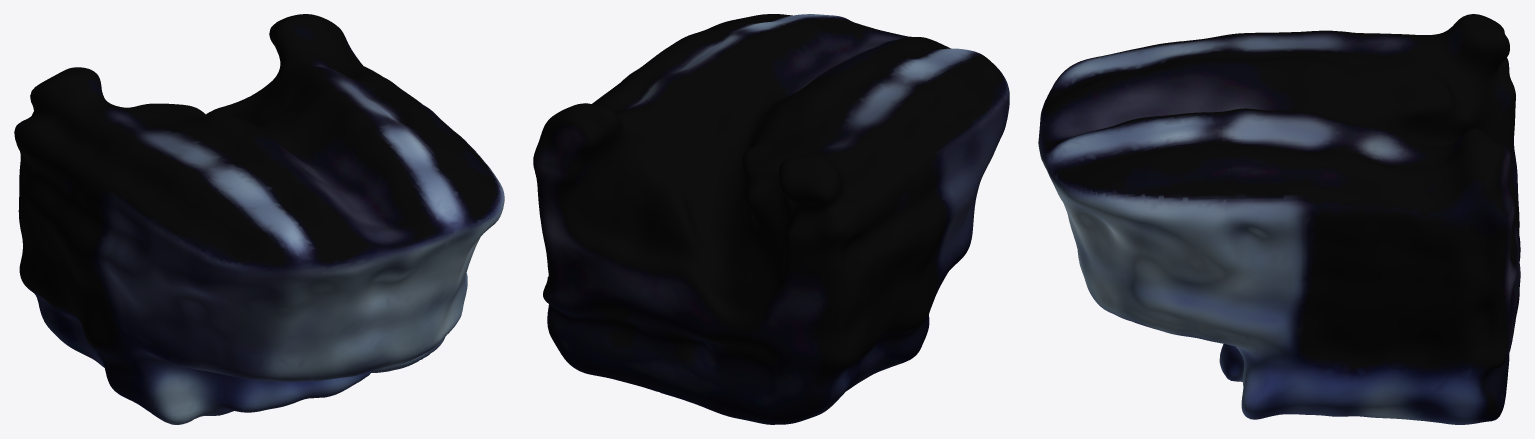
Rendered from backpack.glb.
3 renders of one model, left to right at view 1: azimuth 30°, elevation 25°; view 2: azimuth 150°, elevation 25°; view 3: azimuth 270°, elevation 25°, orthographic. The views are drawn at different scales.
Size of the model in its own units: 0.867 by 0.678 by 0.9997.
